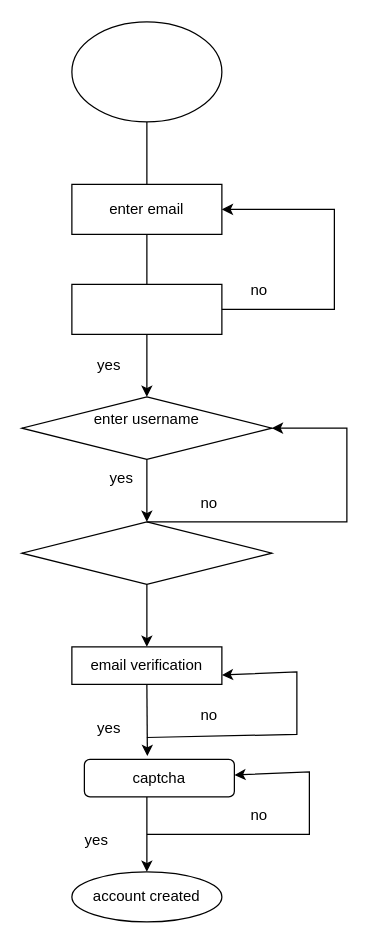
The diagram is 379 pixels wide and 944 high, and some of its shapes have lost their labels. Here are the shapes that lost their labels. From the top down, the centre of each, then its label:
At point 146,71: "start".
At point 146,308: "confirm email".
At point 146,552: "enter age and category".
